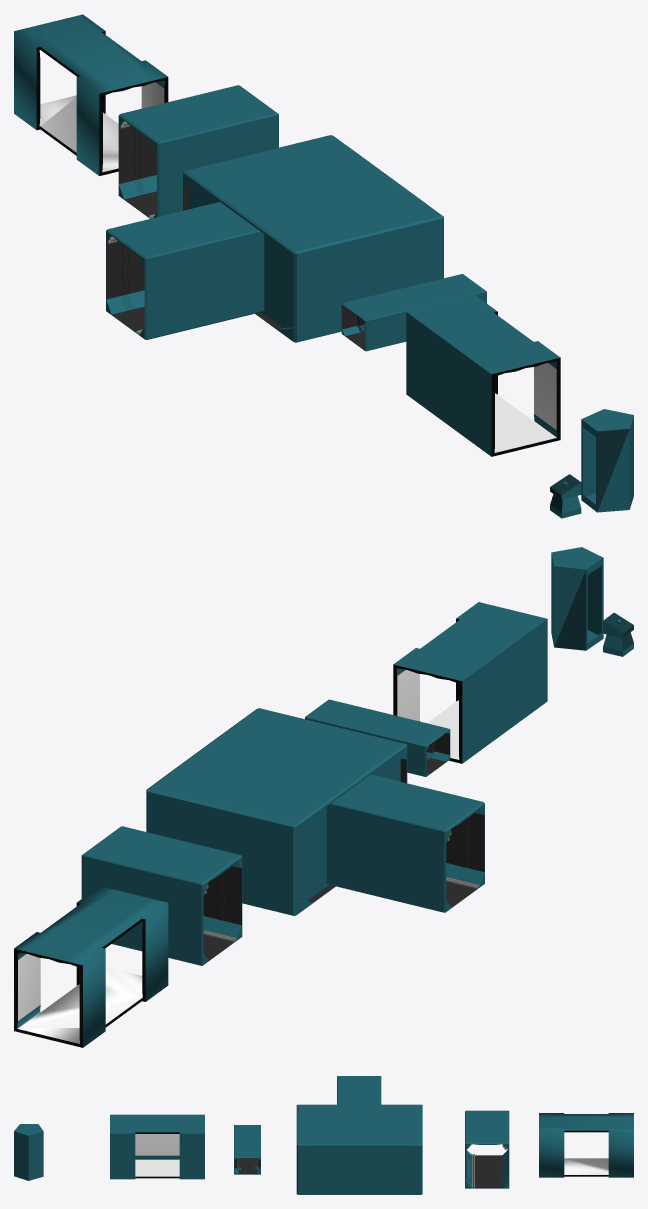
The model's file is AllPrefabsSpace2v2.fbx.
3 renders of one model, top to bottom at view 1: azimuth 30°, elevation 25°; view 2: azimuth 150°, elevation 25°; view 3: azimuth 270°, elevation 25°, orthographic. The views are drawn at different scales.
Visible parts, largest first — view 1: Cube.001, Cube.007, Cube.004, Cube.005, Cube, Cylinder.010, Cube.003; view 2: Cube.001, Cube.007, Cube.005, Cube.004, Cube, Cylinder.010, Cube.003; view 3: Cube.001, Cube.004, Cube.005, Cube, Cylinder.010, Cube.003, Cube.007.
Boxes of the visible parts, bbox=[...] form: Cube.001: bbox=[183, 135, 443, 342]; Cube.007: bbox=[106, 202, 264, 339]; Cube.004: bbox=[406, 295, 560, 456]; Cube.005: bbox=[14, 14, 168, 175]; Cube: bbox=[118, 85, 278, 218]; Cylinder.010: bbox=[550, 409, 633, 518]; Cube.003: bbox=[341, 274, 486, 351]; Cube.001: bbox=[146, 708, 407, 915]; Cube.007: bbox=[326, 774, 484, 912]; Cube.005: bbox=[14, 886, 168, 1047]; Cube.004: bbox=[393, 602, 547, 763]; Cube: bbox=[81, 826, 242, 965]; Cylinder.010: bbox=[551, 547, 633, 656]; Cube.003: bbox=[305, 699, 450, 776]; Cube.001: bbox=[296, 1104, 422, 1194]; Cube.004: bbox=[110, 1114, 204, 1179]; Cube.005: bbox=[539, 1113, 633, 1177]; Cube: bbox=[465, 1110, 509, 1188]; Cylinder.010: bbox=[14, 1124, 43, 1180]; Cube.003: bbox=[234, 1125, 260, 1174]; Cube.007: bbox=[337, 1076, 381, 1104].
Bounding box in the file's own units: 2675 × 882 × 9791.
